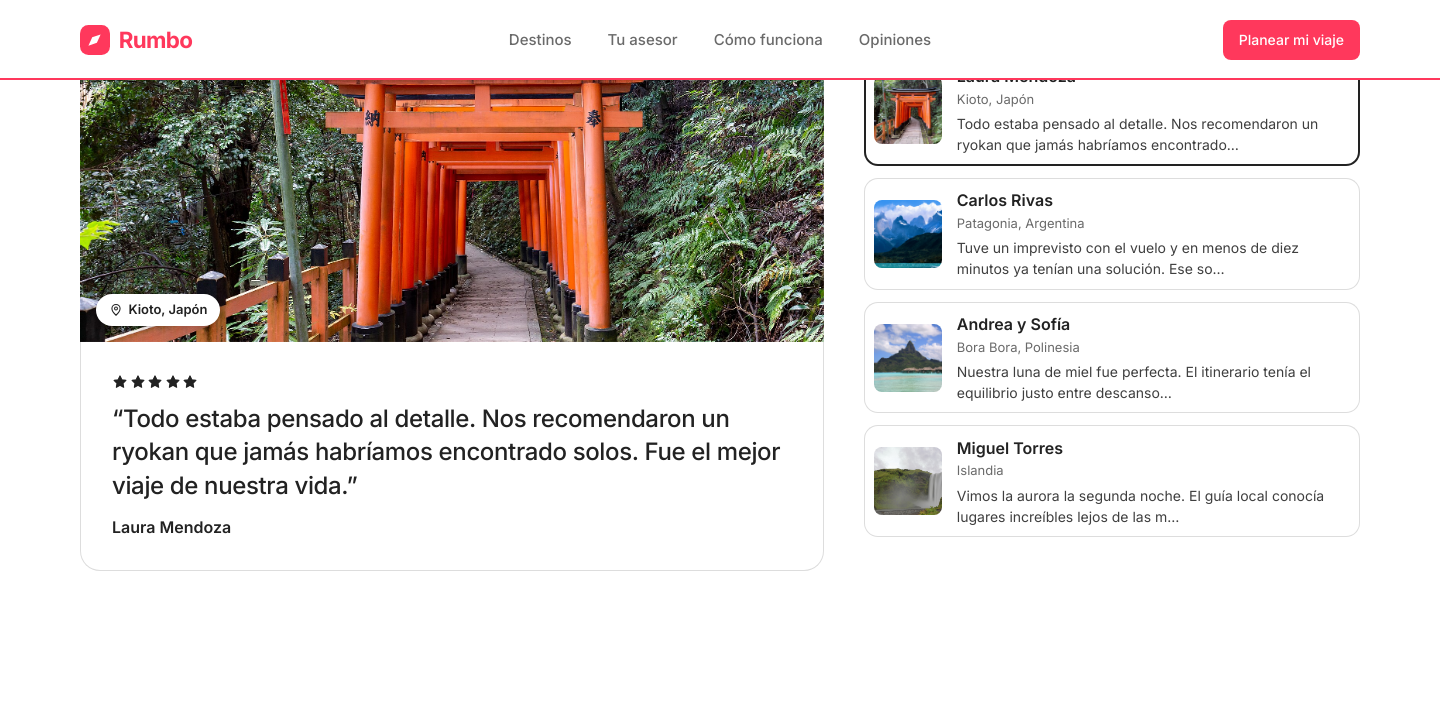
Test: Testimonios › CA-09 muestra todas las opiniones y permite destacar otra
This screenshot has width=1440, height=727.
(page scrolled)
Expected: the element with class "featured" shows "Laura Mendoza", [112,517,231,537]
Click the button with aria-label "Ver la opinión de Miguel Torres". click: [908, 481]
box: [864,425,1360,537]
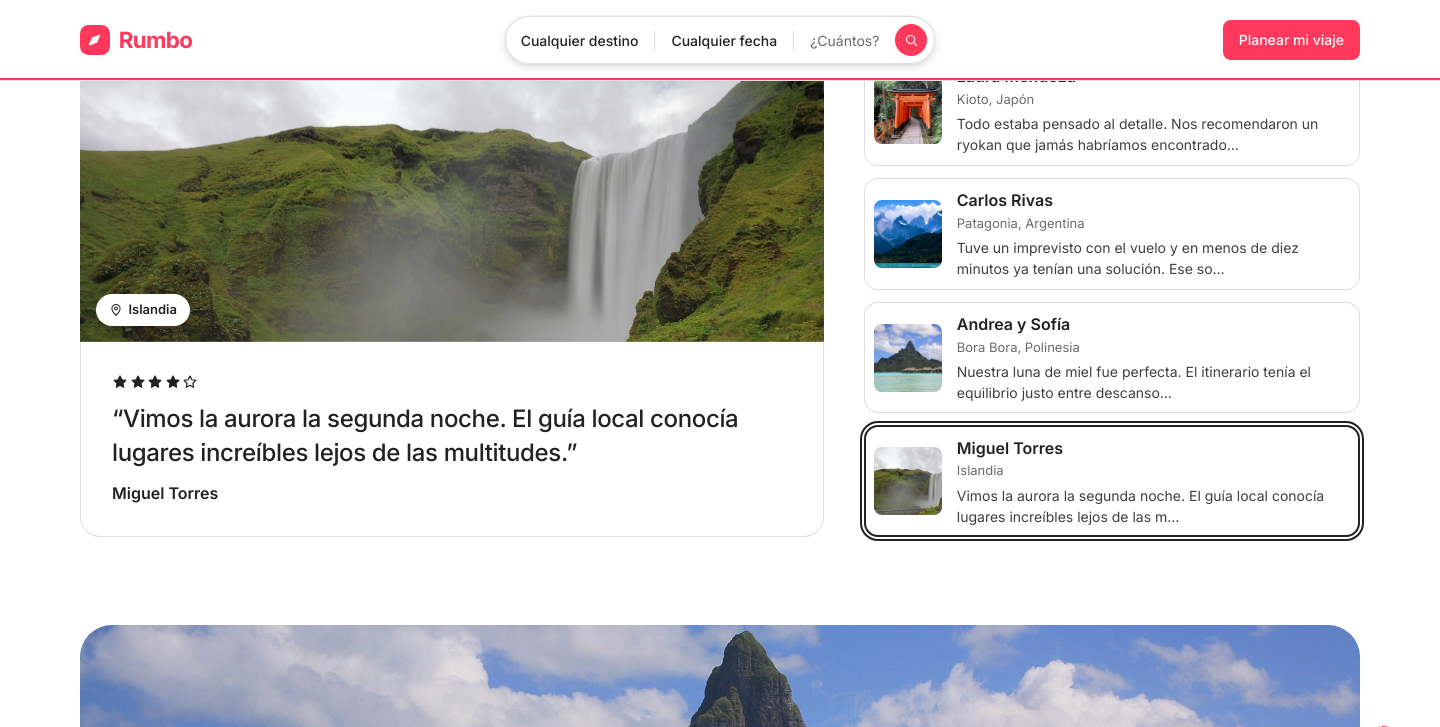
Expected: the element with class "featured" shows "Miguel Torres", [112,483,218,503]
